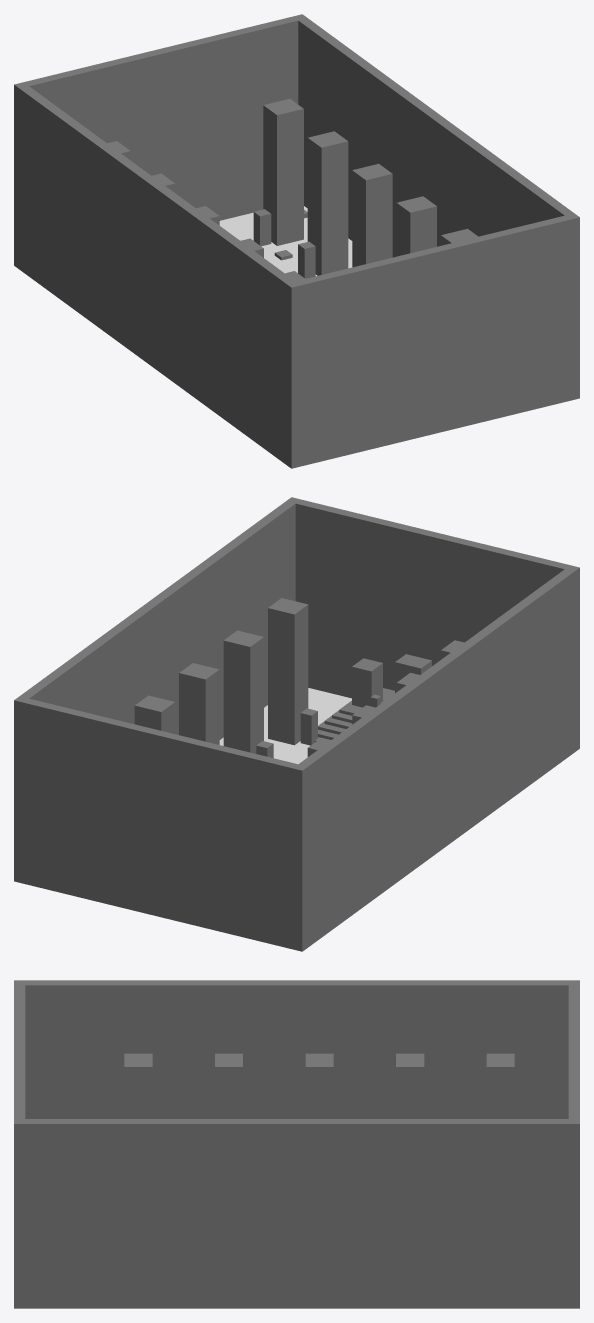
File: BossHallCollision.fbx
3 renders of one model, top to bottom at view 1: azimuth 30°, elevation 25°; view 2: azimuth 150°, elevation 25°; view 3: azimuth 270°, elevation 25°, orthographic.
Parts seen in each view (by area): view 1: WallL.001, WallBack.001, WallFront.001, WallR.001, PillarCol.003, PillarCol.001, PillarCol.005, PillarCol.007, FloorCol, CandelabrumCol.001, CandelabrumCol.003; view 2: WallL.001, WallFront.001, WallBack.001, WallR.001, PillarCol.009, PillarCol.007, PillarCol.005, FloorCol, StatueCol.001, PillarCol.003, ThroneCol, CandelabrumCol.009; view 3: WallR.001, WallL.001, PillarCol.008, PillarCol, PillarCol.002, PillarCol.004, PillarCol.006, WallBack.001, WallFront.001.
Part boxes in pixels (bbox=[...]): WallL.001: bbox=[14, 82, 301, 468]; WallBack.001: bbox=[296, 215, 570, 466]; WallFront.001: bbox=[24, 16, 298, 220]; WallR.001: bbox=[293, 14, 579, 400]; PillarCol.003: bbox=[307, 131, 348, 275]; PillarCol.001: bbox=[263, 98, 303, 245]; PillarCol.005: bbox=[352, 163, 392, 267]; PillarCol.007: bbox=[396, 196, 436, 256]; FloorCol: bbox=[219, 206, 352, 276]; CandelabrumCol.001: bbox=[253, 209, 271, 246]; CandelabrumCol.003: bbox=[298, 241, 315, 278]; WallL.001: bbox=[292, 565, 579, 951]; WallFront.001: bbox=[23, 698, 297, 949]; WallBack.001: bbox=[295, 499, 569, 698]; WallR.001: bbox=[14, 497, 300, 883]; PillarCol.009: bbox=[268, 598, 308, 745]; PillarCol.007: bbox=[223, 630, 263, 753]; PillarCol.005: bbox=[179, 663, 219, 744]; FloorCol: bbox=[219, 688, 351, 764]; StatueCol.001: bbox=[352, 658, 382, 707]; PillarCol.003: bbox=[134, 695, 175, 733]; ThroneCol: bbox=[395, 654, 431, 693]; CandelabrumCol.009: bbox=[300, 708, 317, 745]; WallR.001: bbox=[14, 1119, 579, 1308]; WallL.001: bbox=[14, 980, 579, 1118]; PillarCol.008: bbox=[124, 1053, 152, 1118]; PillarCol: bbox=[486, 1053, 514, 1118]; PillarCol.002: bbox=[396, 1053, 424, 1118]; PillarCol.004: bbox=[305, 1053, 333, 1118]; PillarCol.006: bbox=[215, 1053, 242, 1118]; WallBack.001: bbox=[14, 985, 25, 1118]; WallFront.001: bbox=[568, 985, 579, 1118].
Bounding box in the file's own units: 3000 × 5000 × 1800.
Materials: 2 (1 with a texture image).
